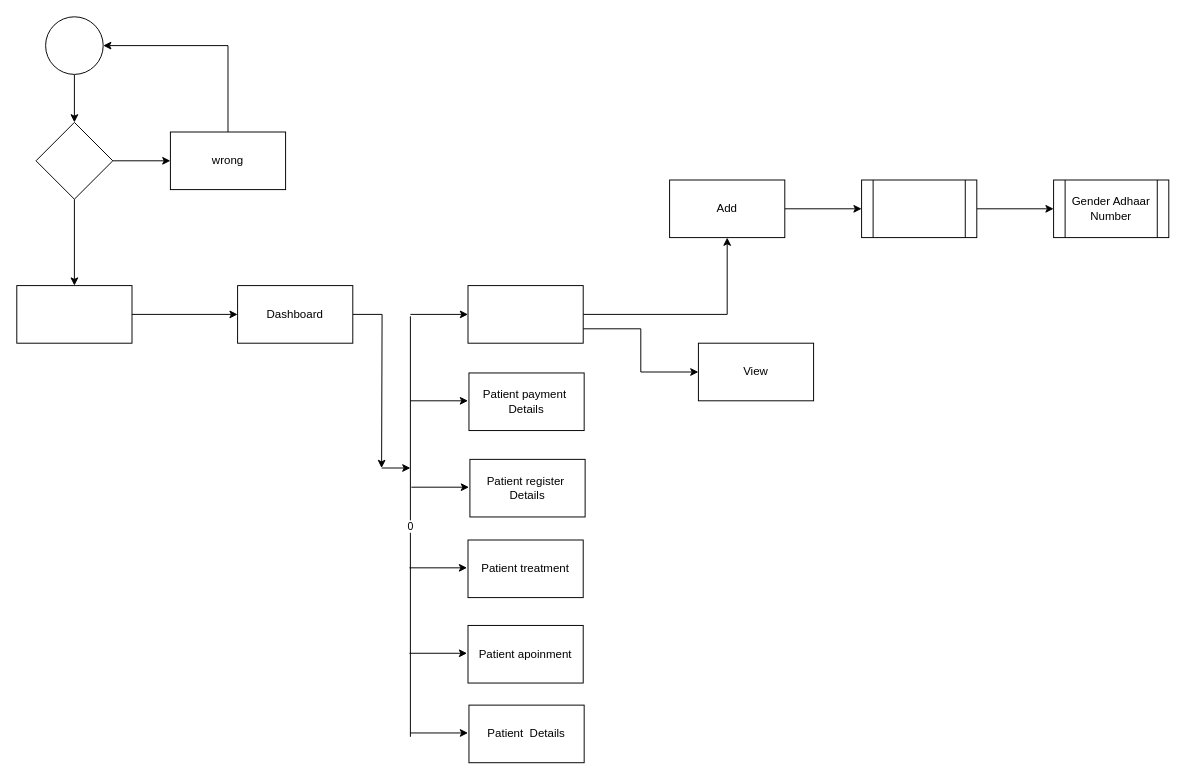
Image size: 1186x780. Some labels were removed from this diagram. Here are the shapes that lost their labels. From the top down, the centre of each, then its label:
the point at 74,45: Login
the point at 74,160: validation
the point at 919,208: name,age
the point at 74,314: correct
the point at 525,314: Add / view / Update / Delete patient
